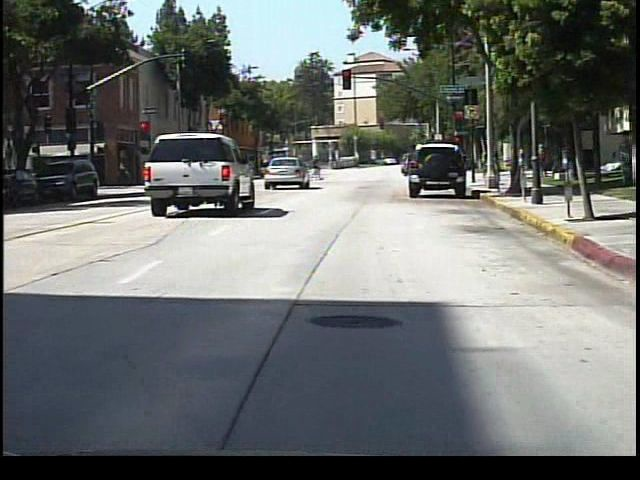person: (538, 142, 554, 183), (461, 153, 477, 183), (313, 155, 326, 184)
